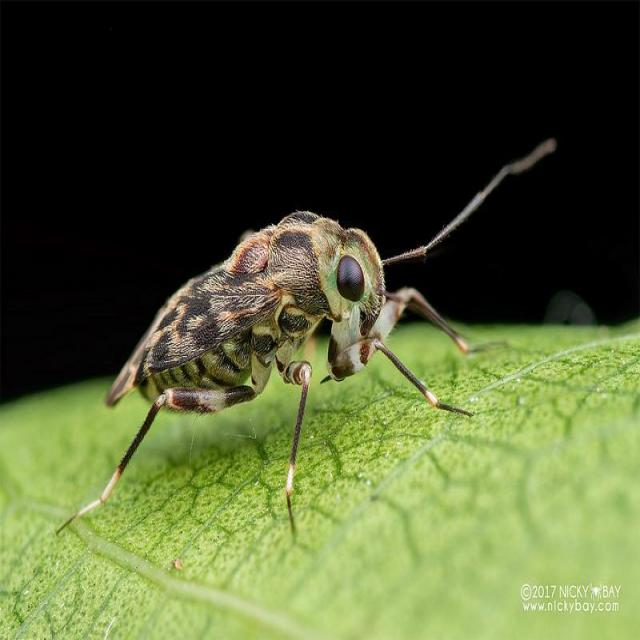Miridae-Adult-: (69, 130, 525, 564)
